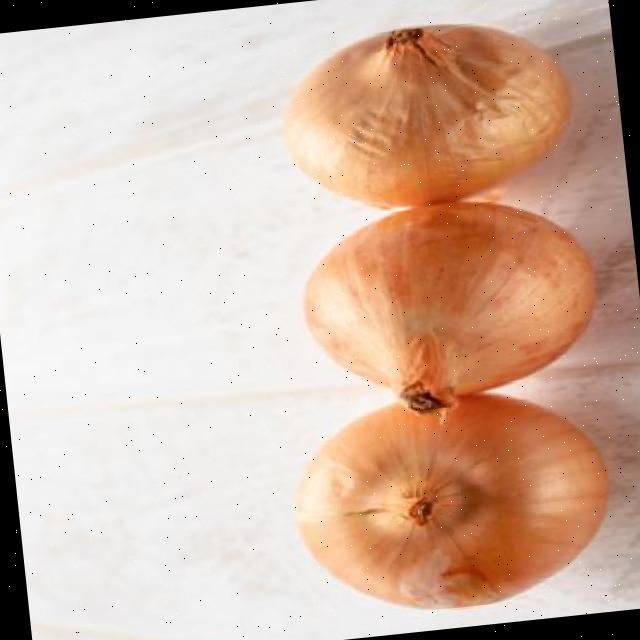Onion: (297, 392, 607, 607), (306, 201, 594, 411), (285, 22, 571, 205)
